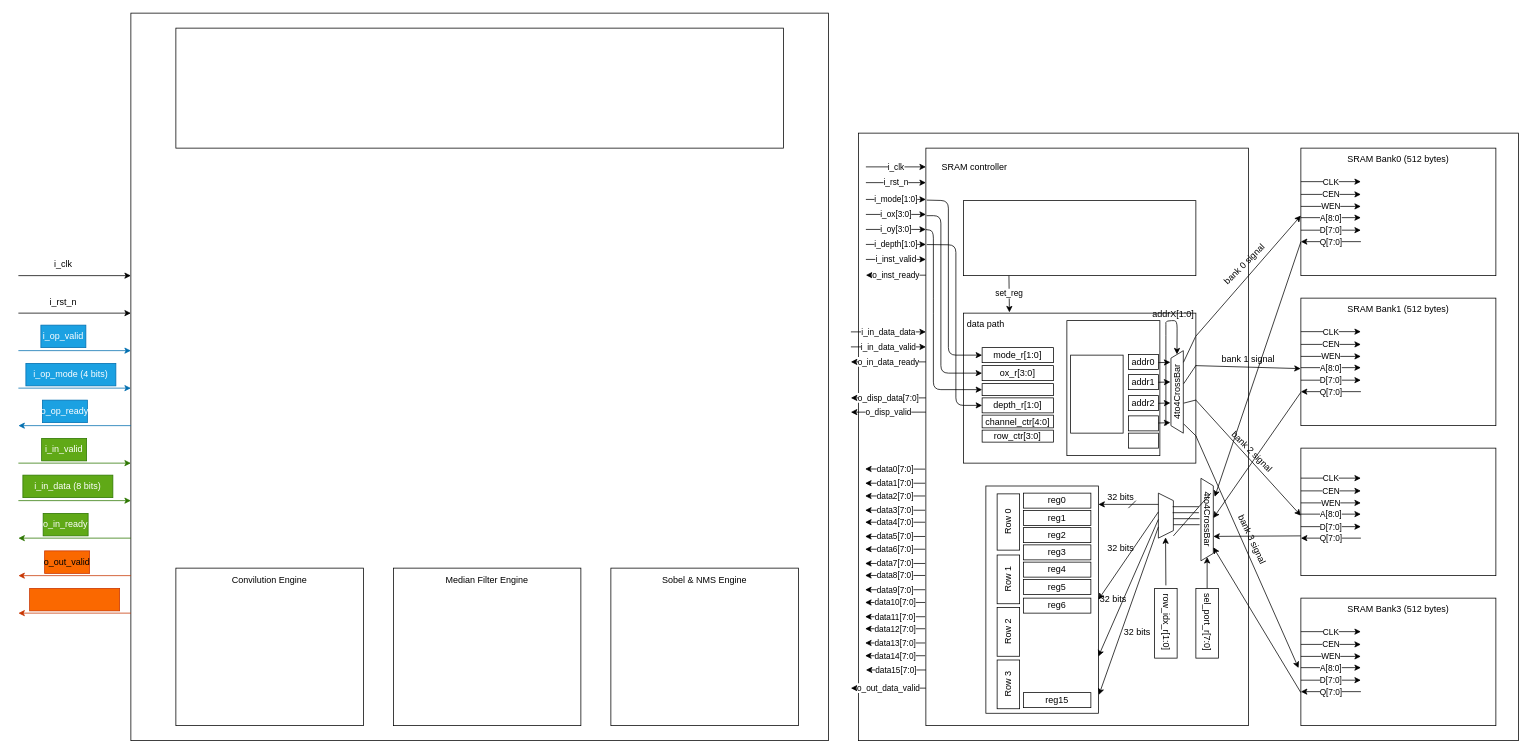
Image size: 1532x754. Some labels were removed from this diagram. Here are the shapes that lost their labels. From the top down, the centre of each, then its label:
At point 479,87: "Controller".
At point 1079,238: "FSM".
At point 1017,389: "oy_r[3:0]".
At point 1096,393: "addr calculator".
At point 1143,423: "addr3".
At point 1143,440: "row idx".
At point 1398,511: "SRAM Bank2 (512 bytes)".
At point 74,599: "o_out_data (14 bits)".
